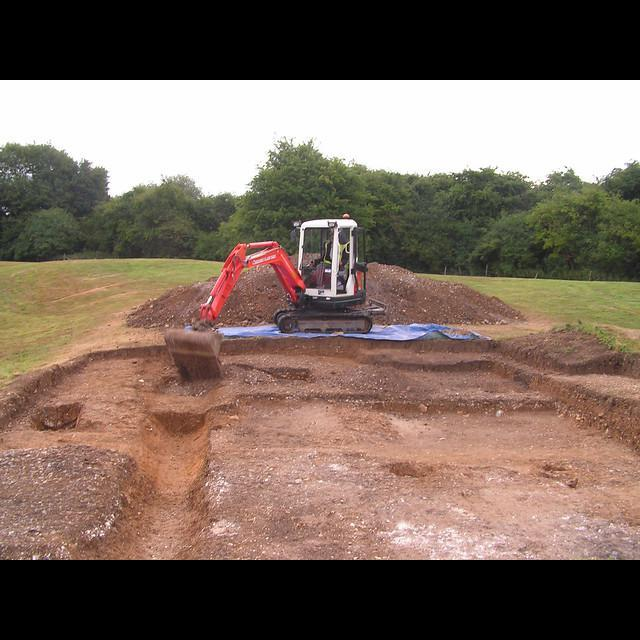Excavator: (162, 215, 373, 386)
Hardhat: (329, 227, 341, 234)
Person: (310, 227, 348, 284)
Safety Vest: (324, 238, 347, 265)
